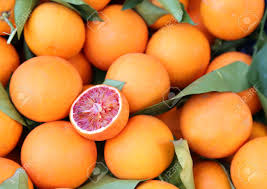orange: (18, 120, 97, 189), (174, 89, 254, 156), (100, 114, 177, 178), (9, 56, 80, 121), (144, 20, 211, 86), (101, 53, 172, 112), (84, 4, 149, 68), (24, 3, 85, 58)
